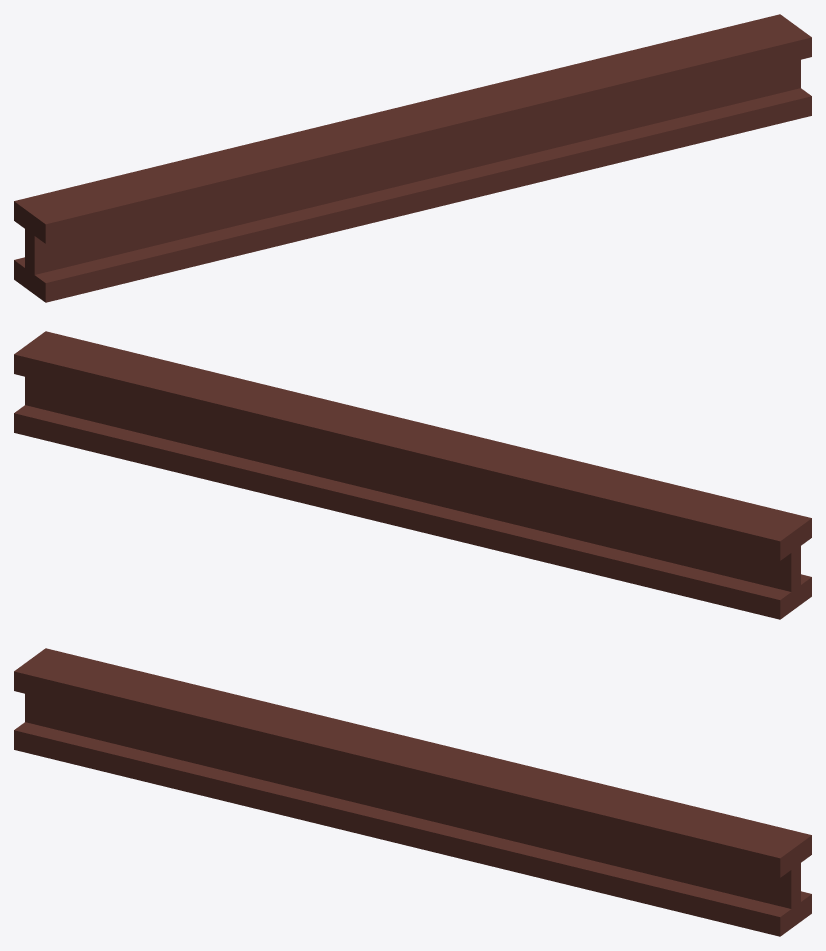
The model's file is SM_Prop_I_Beam_01.fbx.
The picture shows the model from 3 angles, top to bottom: view 1: azimuth 30°, elevation 25°; view 2: azimuth 150°, elevation 25°; view 3: azimuth 330°, elevation 25°; orthographic projection.
Parts seen in each view (by area): view 1: SM_Prop_I_Beam_01; view 2: SM_Prop_I_Beam_01; view 3: SM_Prop_I_Beam_01.
Part boxes in pixels (bbox=[...]): SM_Prop_I_Beam_01: bbox=[14, 14, 811, 302]; SM_Prop_I_Beam_01: bbox=[14, 331, 811, 619]; SM_Prop_I_Beam_01: bbox=[14, 648, 811, 936].
Bounding box in the file's own units: 200 × 19.56 × 14.34.
